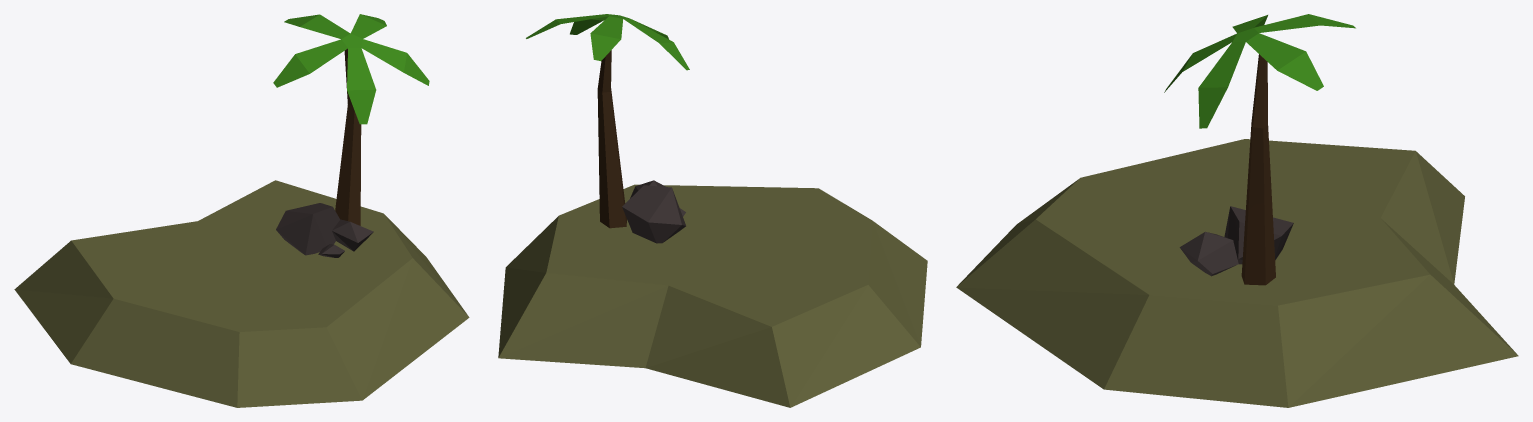
The model's file is seaBig_islandB.FBX.
The picture shows the model from 3 angles, left to right: view 1: azimuth 30°, elevation 25°; view 2: azimuth 150°, elevation 25°; view 3: azimuth 270°, elevation 25°; orthographic projection. The views are drawn at different scales.
Visible parts, largest first — view 1: seaBig_islandB; view 2: seaBig_islandB; view 3: seaBig_islandB.
Part boxes in pixels (x1,y1,x2,y2): seaBig_islandB: (14, 14, 469, 407); seaBig_islandB: (498, 14, 927, 407); seaBig_islandB: (956, 14, 1518, 407).
Size of the model in its own units: 559 by 363 by 571.
